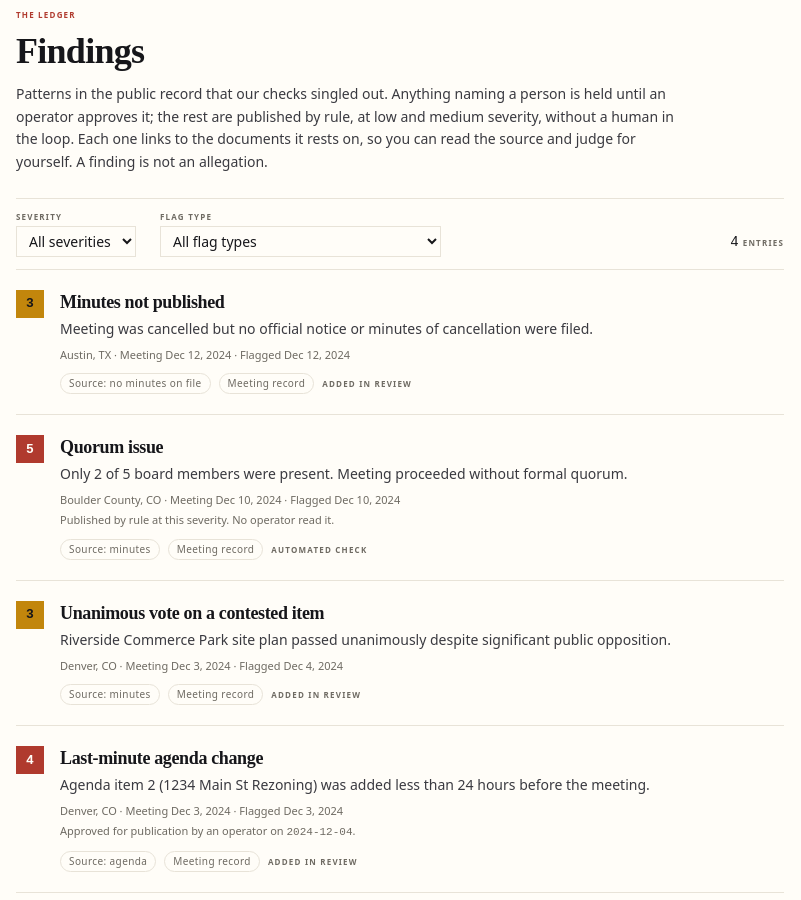
Test: FindingsPage › filters the ledger by flag type and can be cleared
Expected: the heading "Quorum issue" is shown, [60, 437, 163, 457]
Select "Minutes not published" in the dropdown labelled "Flag type" at (300, 242), box [160, 226, 441, 257]
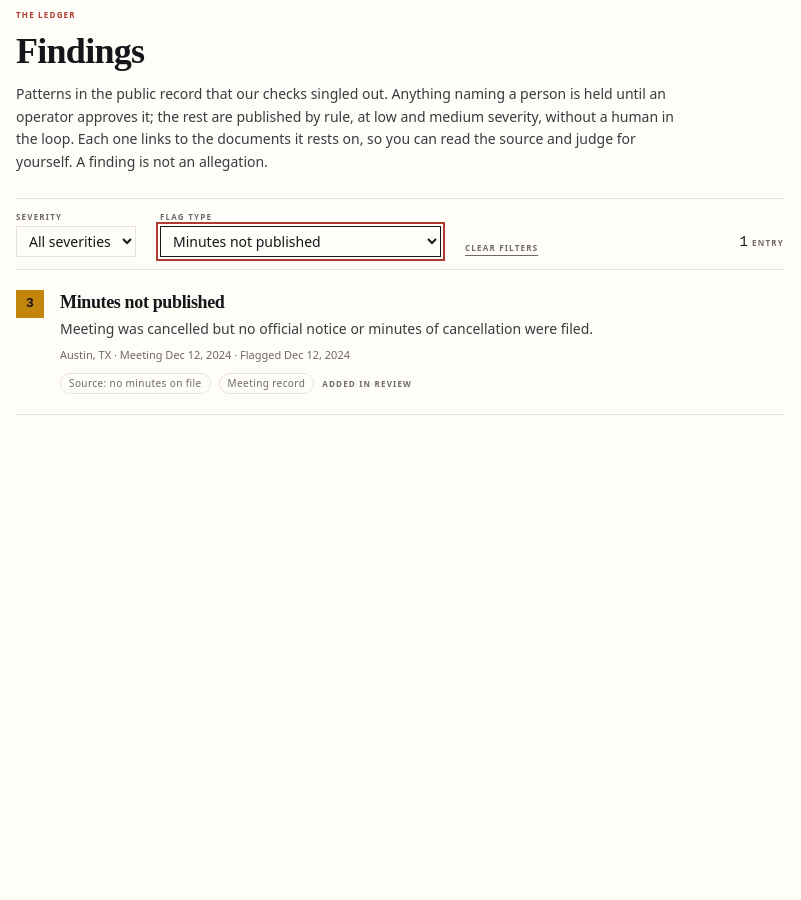
Expected: the heading "Minutes not published" is shown, [60, 292, 224, 312]
Expected: the heading "Quorum issue" is gone
Click the button "Clear filters" at (502, 249), box [465, 242, 538, 257]
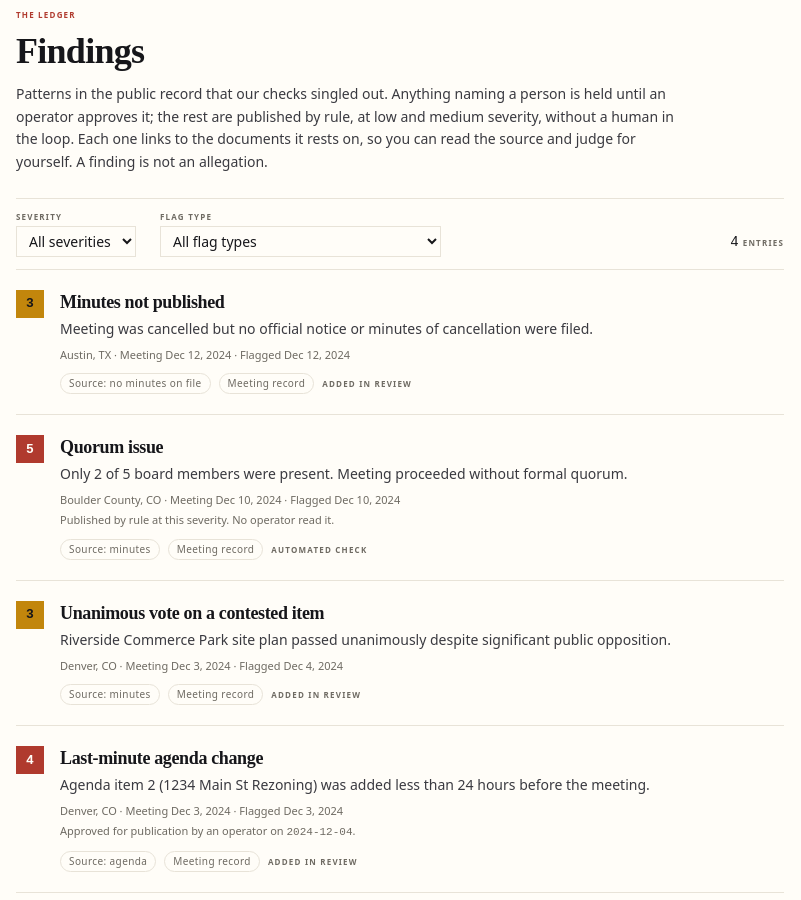
Expected: the heading "Quorum issue" is shown, [60, 437, 163, 457]
